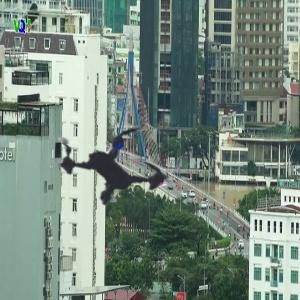drone: (6, 63, 220, 277)
